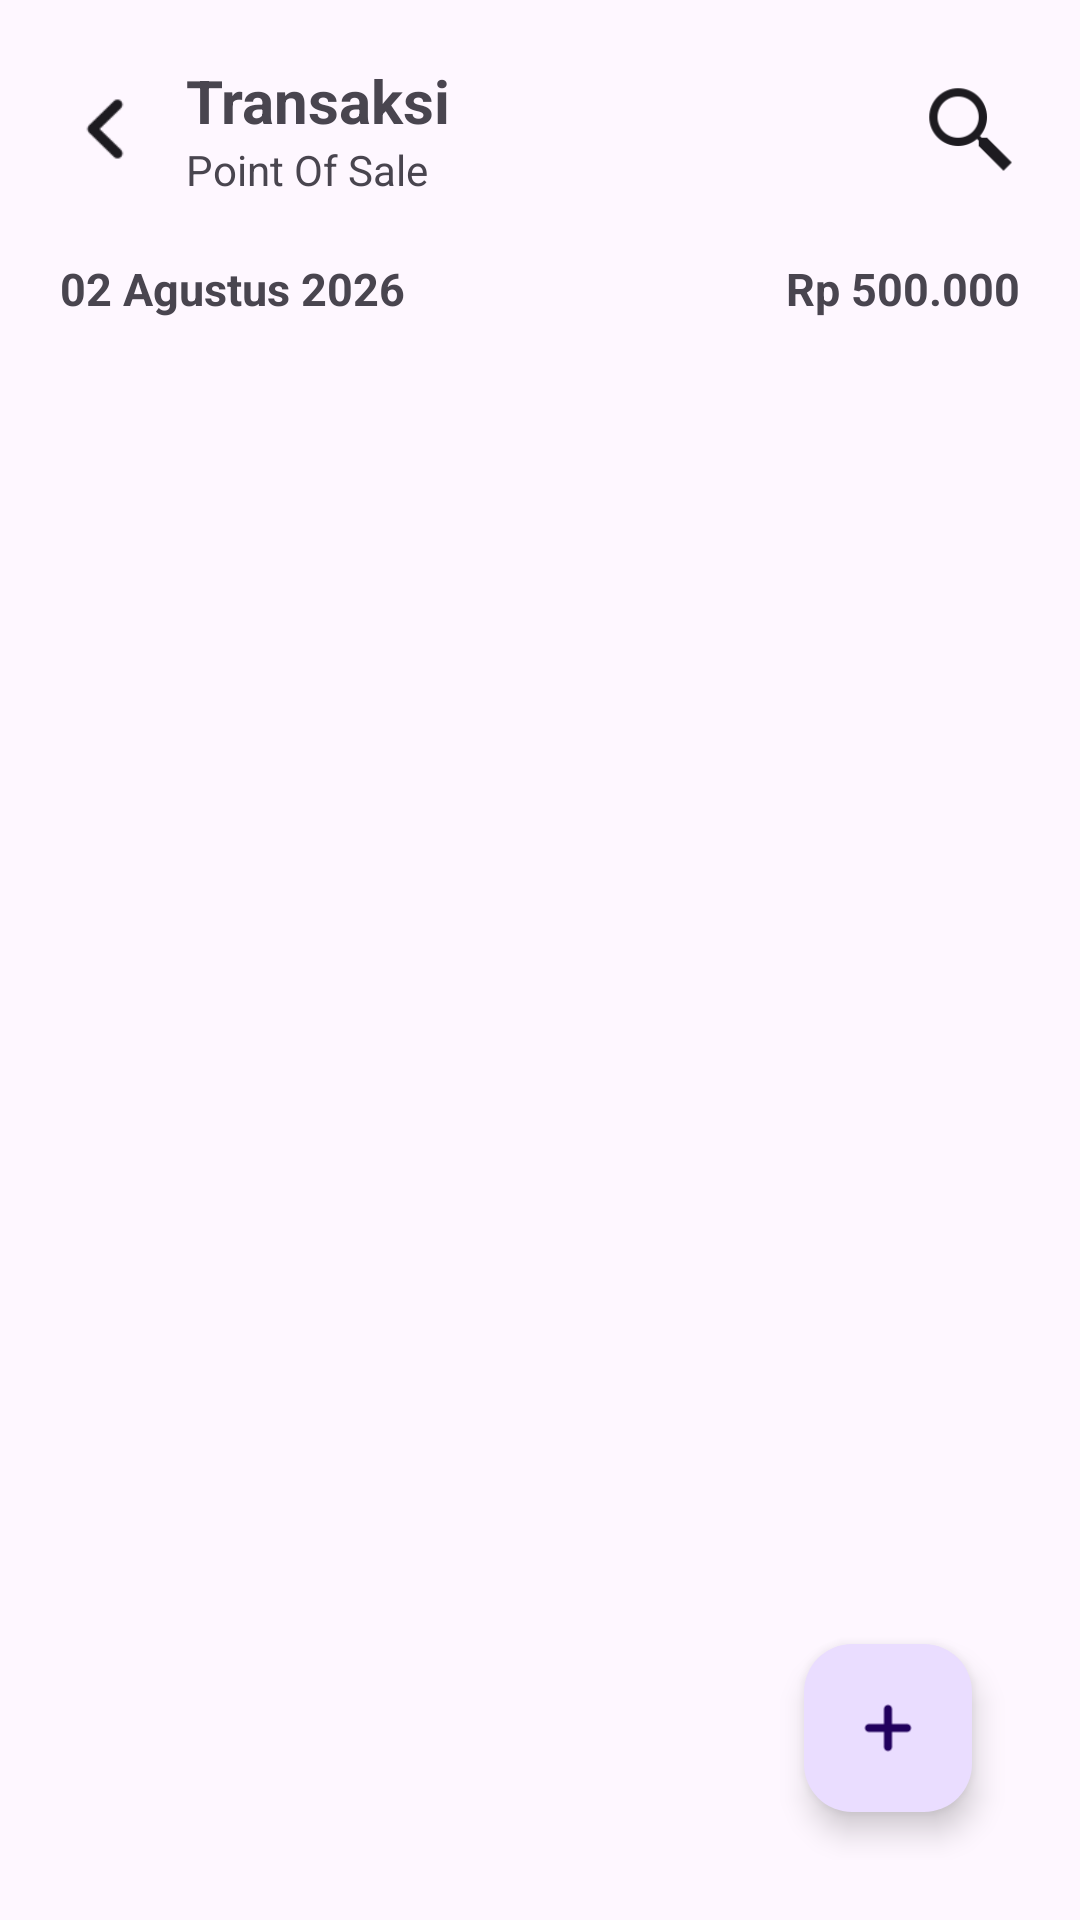

Locate icon controls on the screen. Image size 1080 x 1920, boxes as (x1, y1, x2, y2).
kembali: (86, 99, 124, 159)
search: (929, 88, 1012, 171)
tambah: (804, 1644, 972, 1812)
